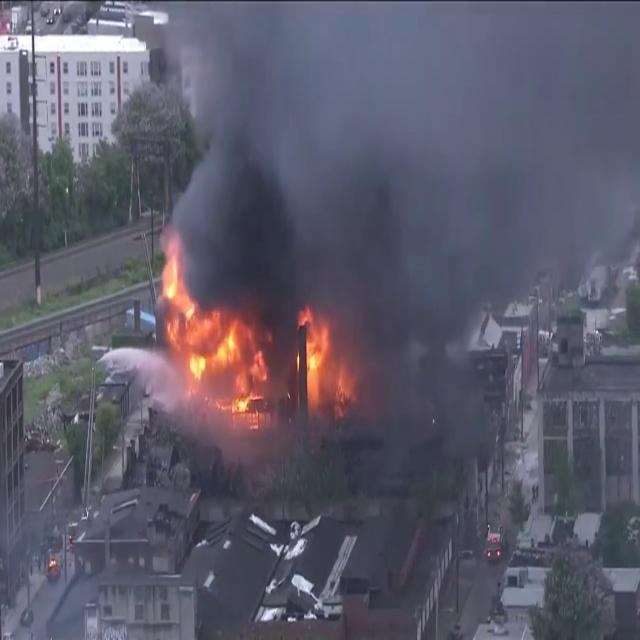Fire: (160, 250, 266, 417), (296, 304, 356, 414)
Smoke: (161, 3, 639, 412)
